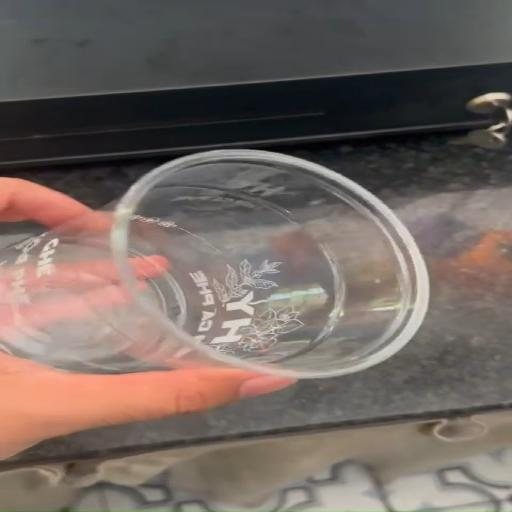ly_nhua: (0, 149, 428, 378)
